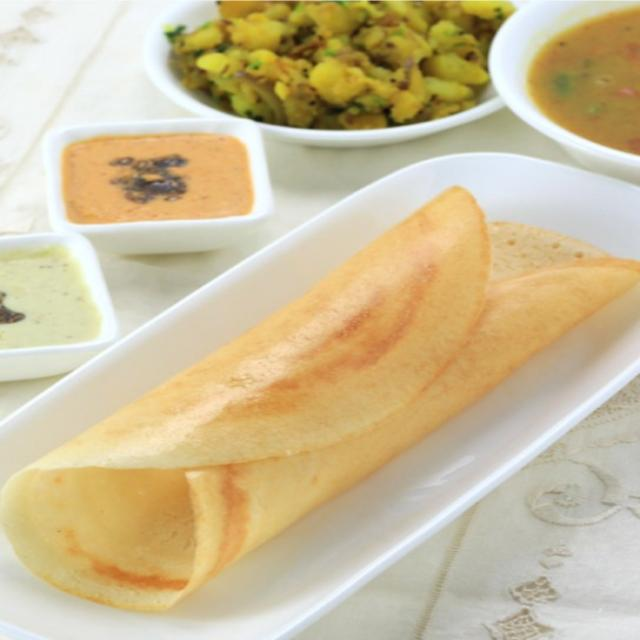DOSA: (0, 184, 639, 613)
SAMBAR: (61, 133, 255, 223)
VEGGIES: (166, 4, 521, 124)
WHITE CHUTNEY: (537, 9, 639, 156), (0, 251, 102, 346)
